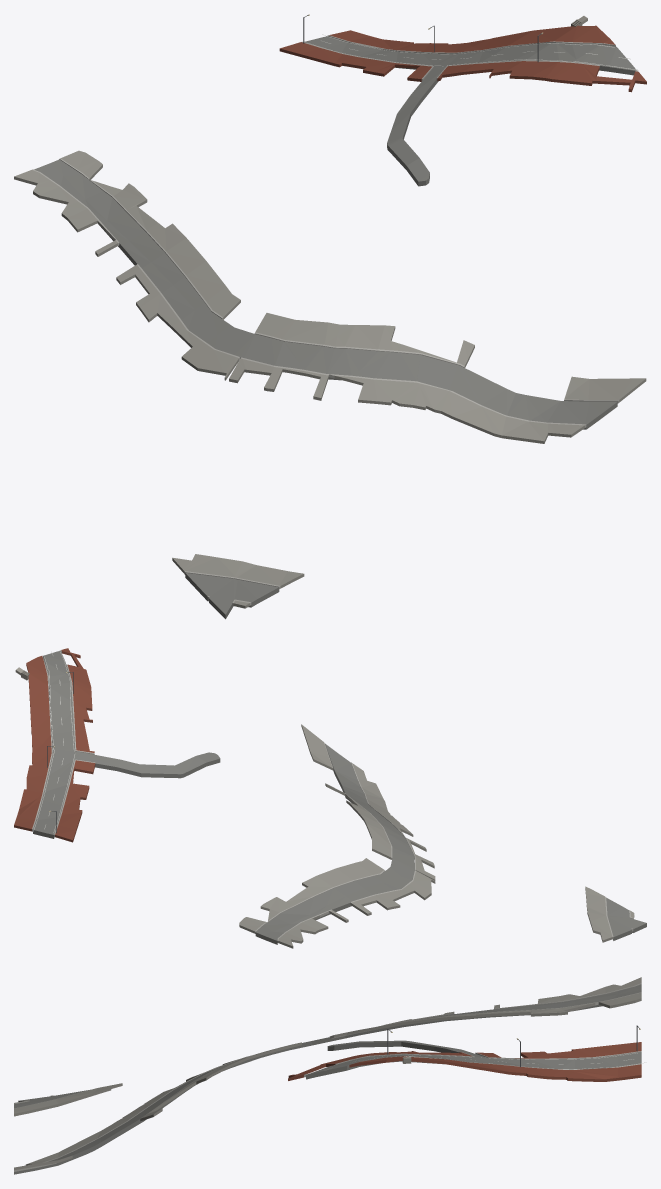
3 views of the same model, one above another, from view 1: azimuth 30°, elevation 25°; view 2: azimuth 150°, elevation 25°; view 3: azimuth 270°, elevation 25° (orthographic). The views are drawn at different scales.
Size of the model in its own units: 147 by 80.95 by 147.
